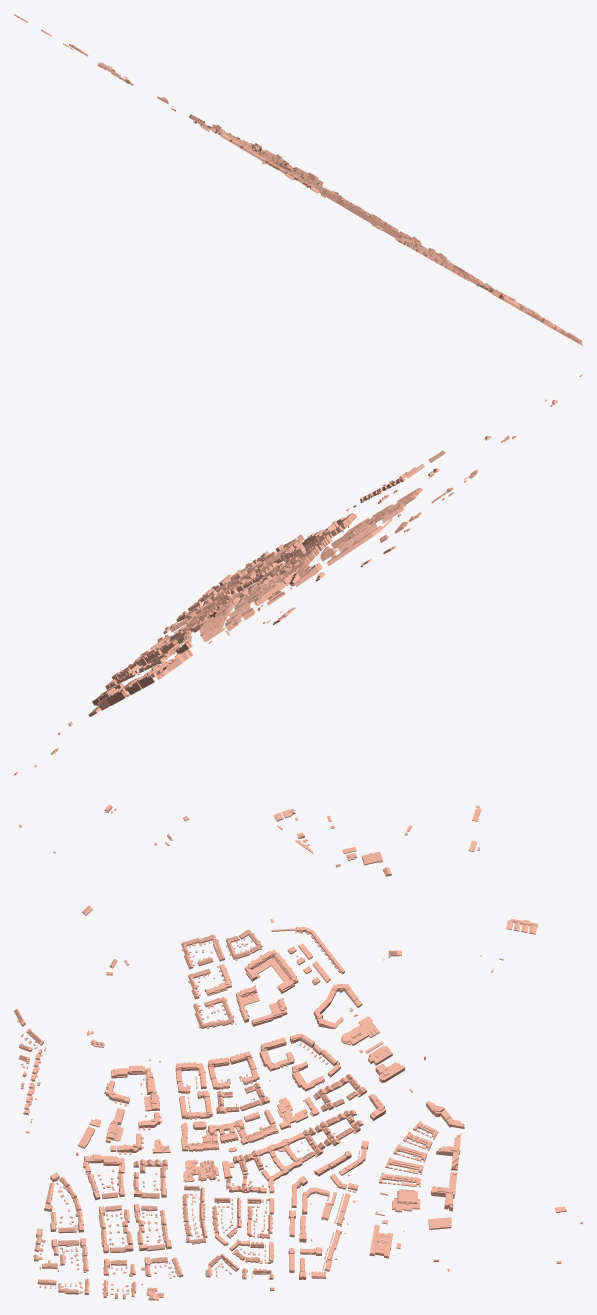
The picture shows the model from 3 angles, top to bottom: view 1: azimuth 30°, elevation 25°; view 2: azimuth 150°, elevation 25°; view 3: azimuth 270°, elevation 25°; orthographic projection. The views are drawn at different scales.
Size of the model in its own units: 1004 by 753 by 1242.
